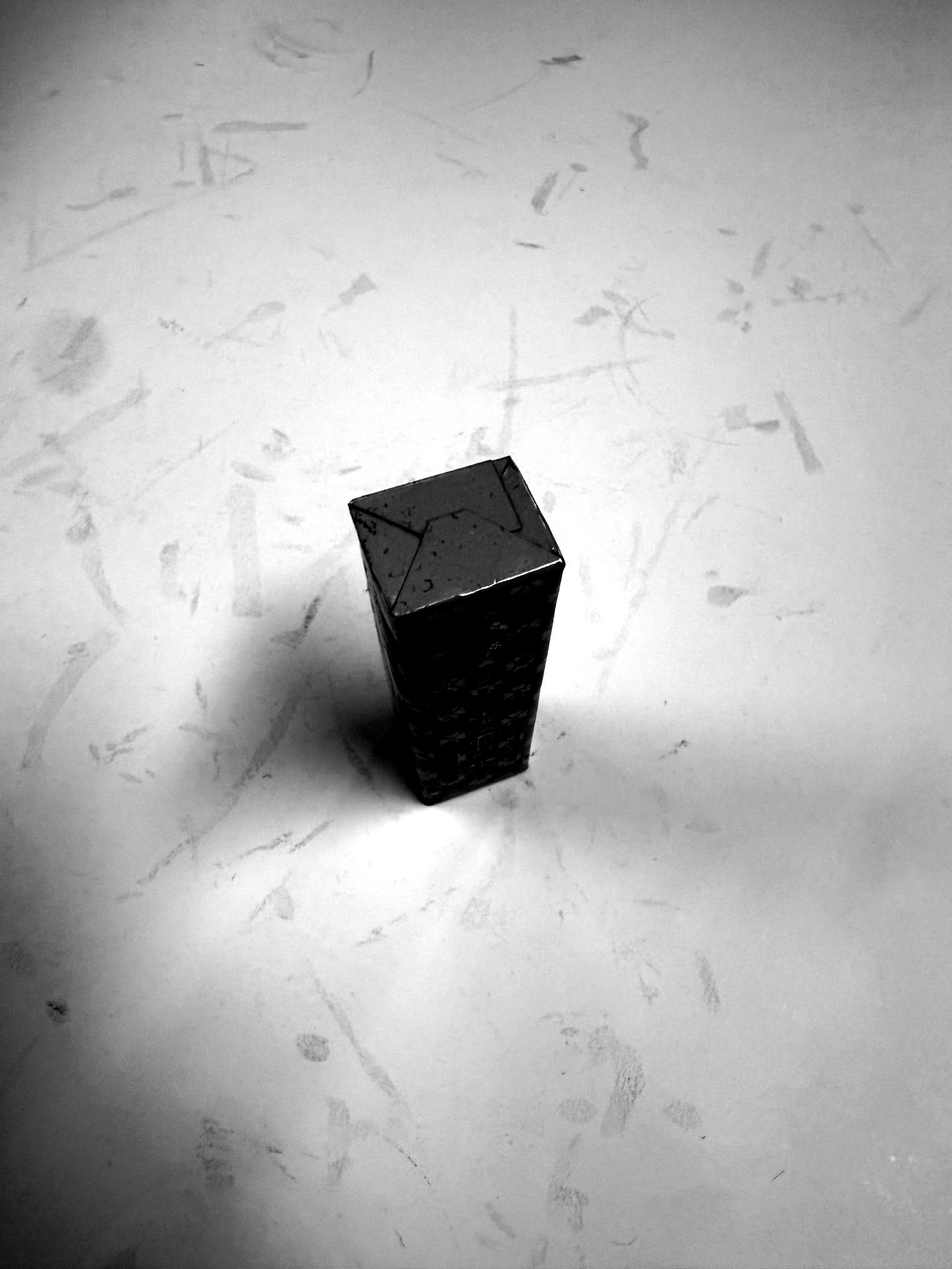gum_yellow: (350, 457, 564, 804)
